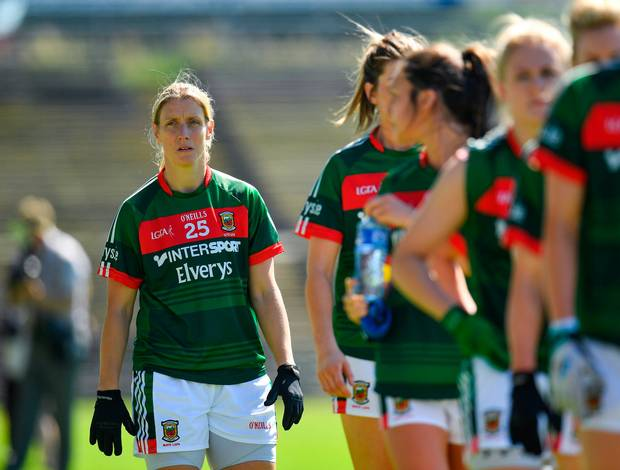player: (104, 88, 289, 451), (386, 41, 495, 441), (466, 6, 561, 414), (326, 32, 416, 449), (556, 13, 613, 433)
